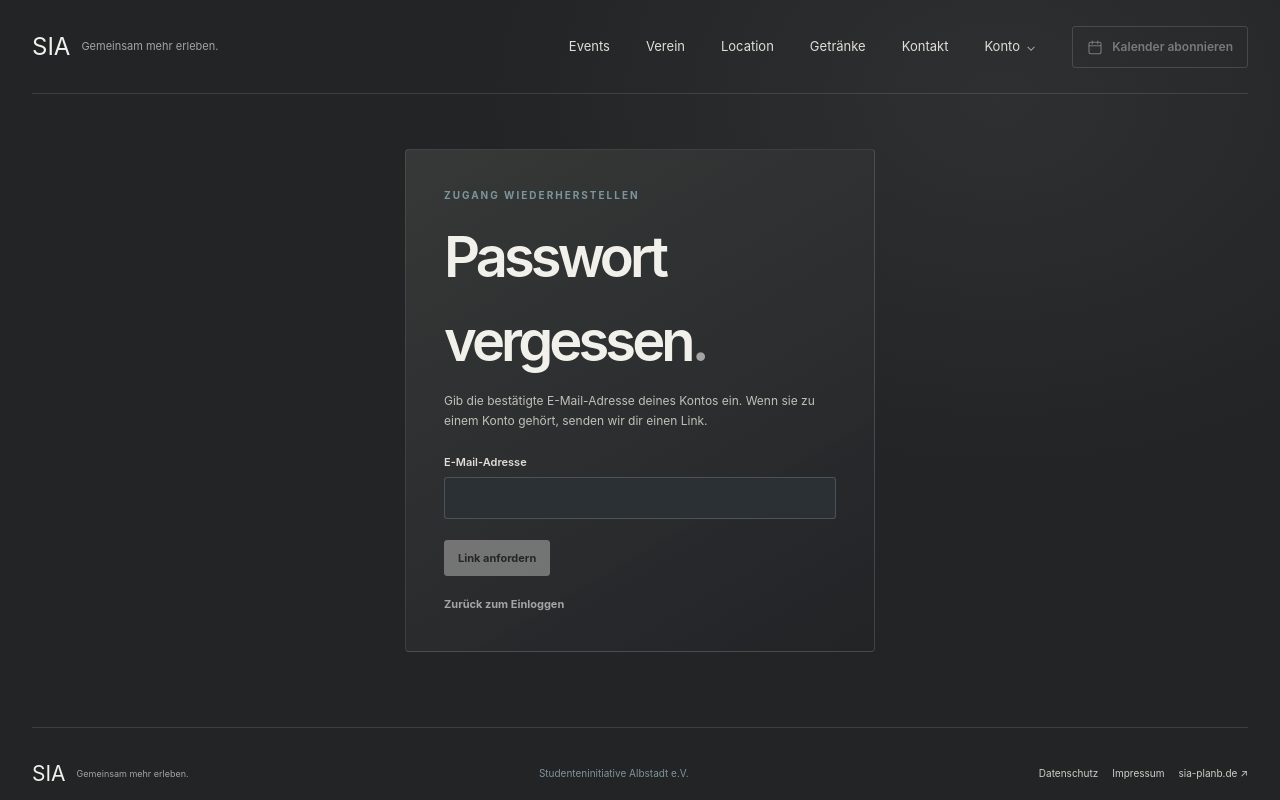
Test: events page › requests password recovery with the session CSRF token and generic feedback
The width and height of the screenshot is (1280, 800).
In the field labelled "E-Mail-Adresse": {"x": 640, "y": 498} top-left (444, 477), bottom-right (836, 519), type "member@example.com"
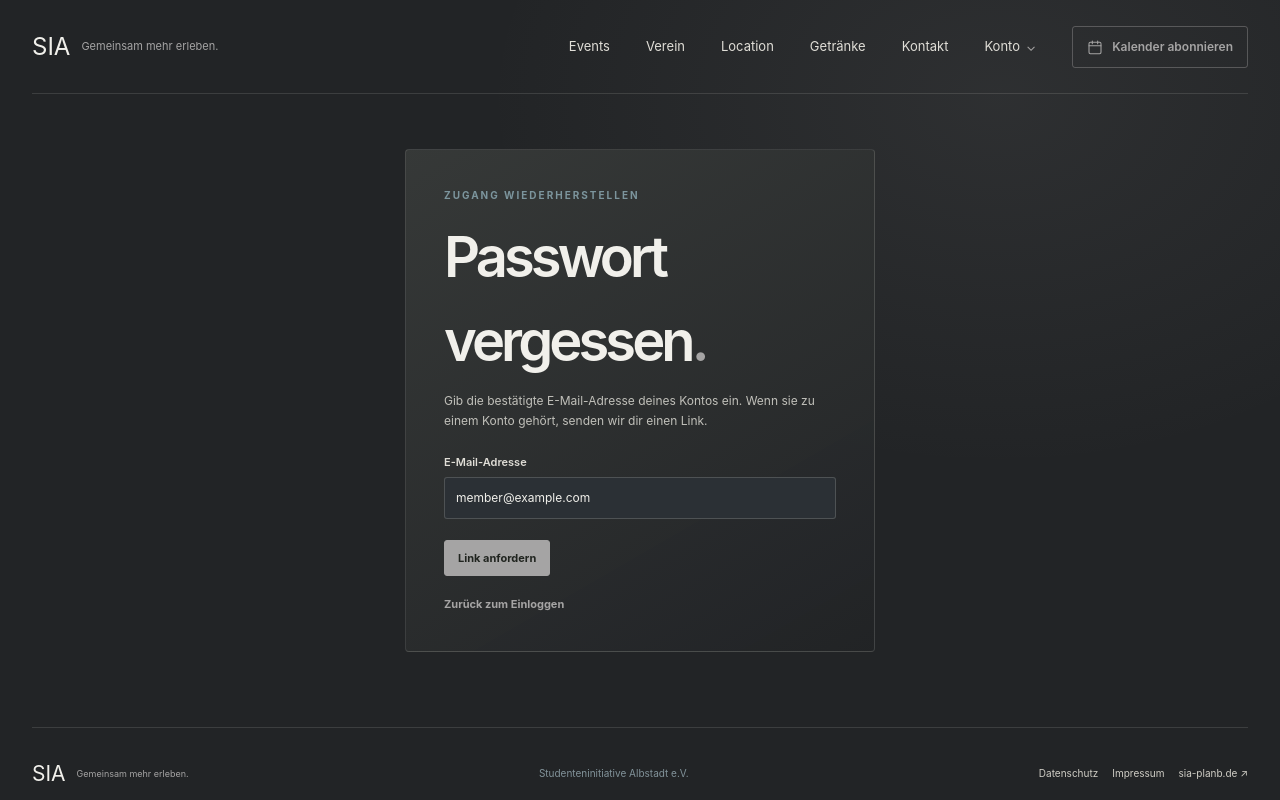
Click the button "Link anfordern": {"x": 497, "y": 558} top-left (444, 540), bottom-right (550, 576)
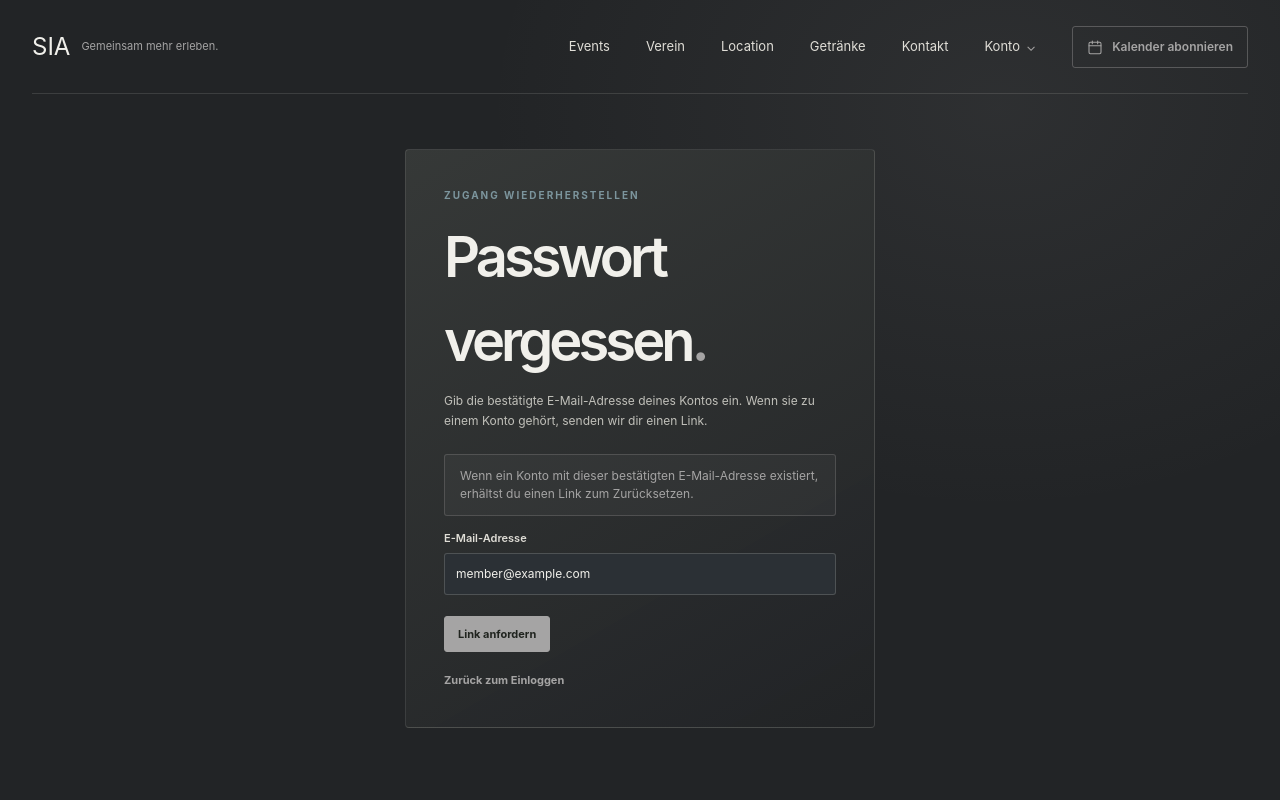
Expected: the message shows "Wenn ein Konto mit dieser bestätigten E-Mail-Adresse existiert", top-left (460, 468), bottom-right (818, 501)
